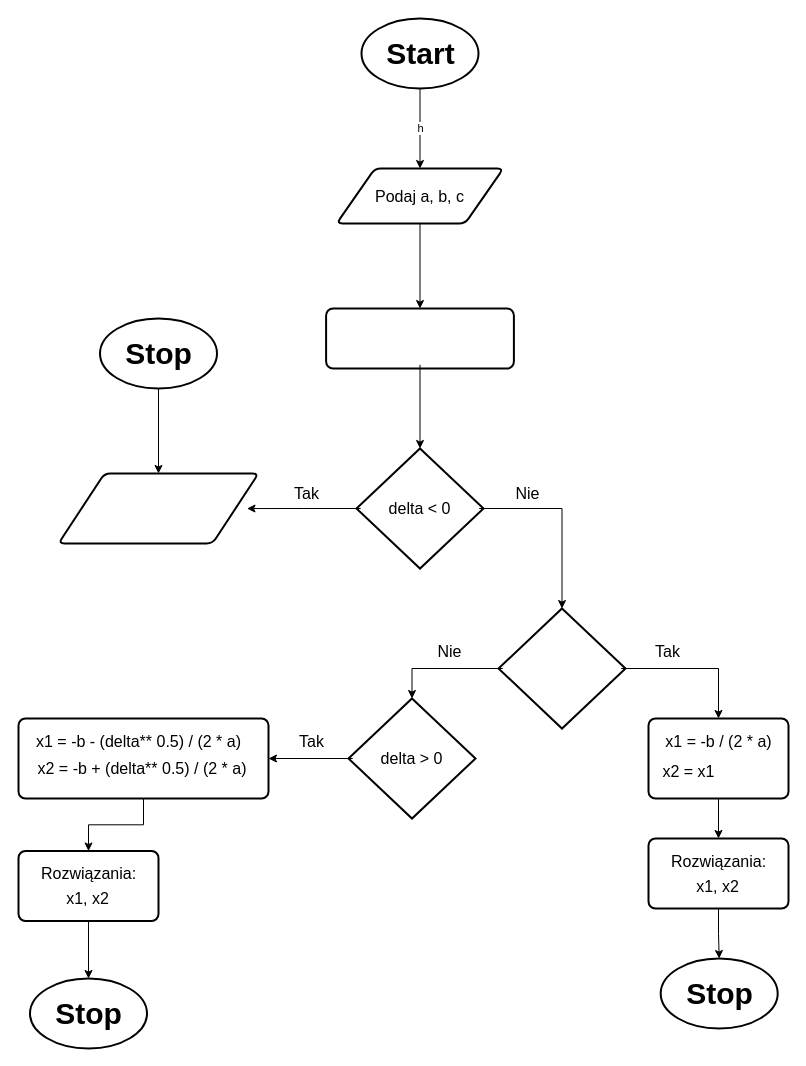
Some shapes in this 806 by 1066 pixel diagram are drawn without their labels. The shapes that lost their labels are listed below. From the top down, each one's centre as x and y in pixels, then its label:
At point (419, 338): "delta = b * b - 4 * a * c".
At point (158, 508): "Wyświetl: Równanie nie ma rozwiązań".
At point (561, 668): "delta == 0".
